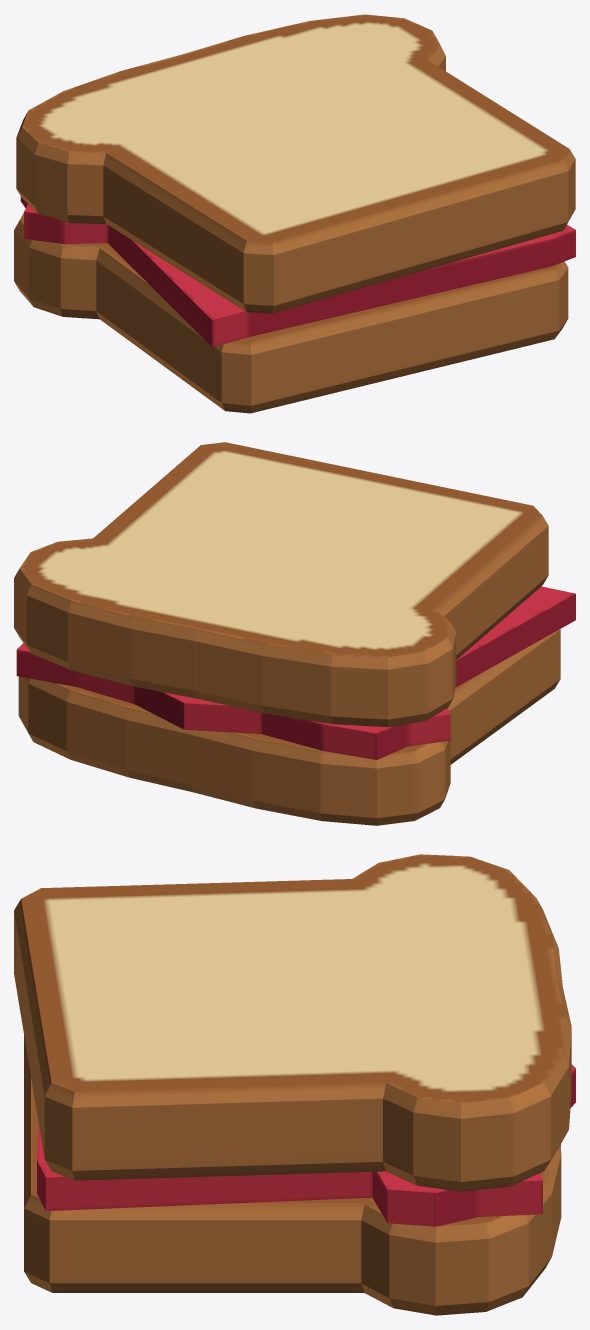
Rendered from JamSandwich.fbx.
The picture shows the model from 3 angles, top to bottom: view 1: azimuth 30°, elevation 25°; view 2: azimuth 150°, elevation 25°; view 3: azimuth 270°, elevation 25°; orthographic projection. The views are drawn at different scales.
Visible parts, largest first — view 1: JamSandwich; view 2: JamSandwich; view 3: JamSandwich.
Boxes of the visible parts, bbox=[...] form: JamSandwich: bbox=[14, 14, 575, 413]; JamSandwich: bbox=[14, 442, 575, 825]; JamSandwich: bbox=[14, 854, 575, 1315].
Size of the model in its own units: 263 by 100 by 242.
Materials: 1 (1 with a texture image).
